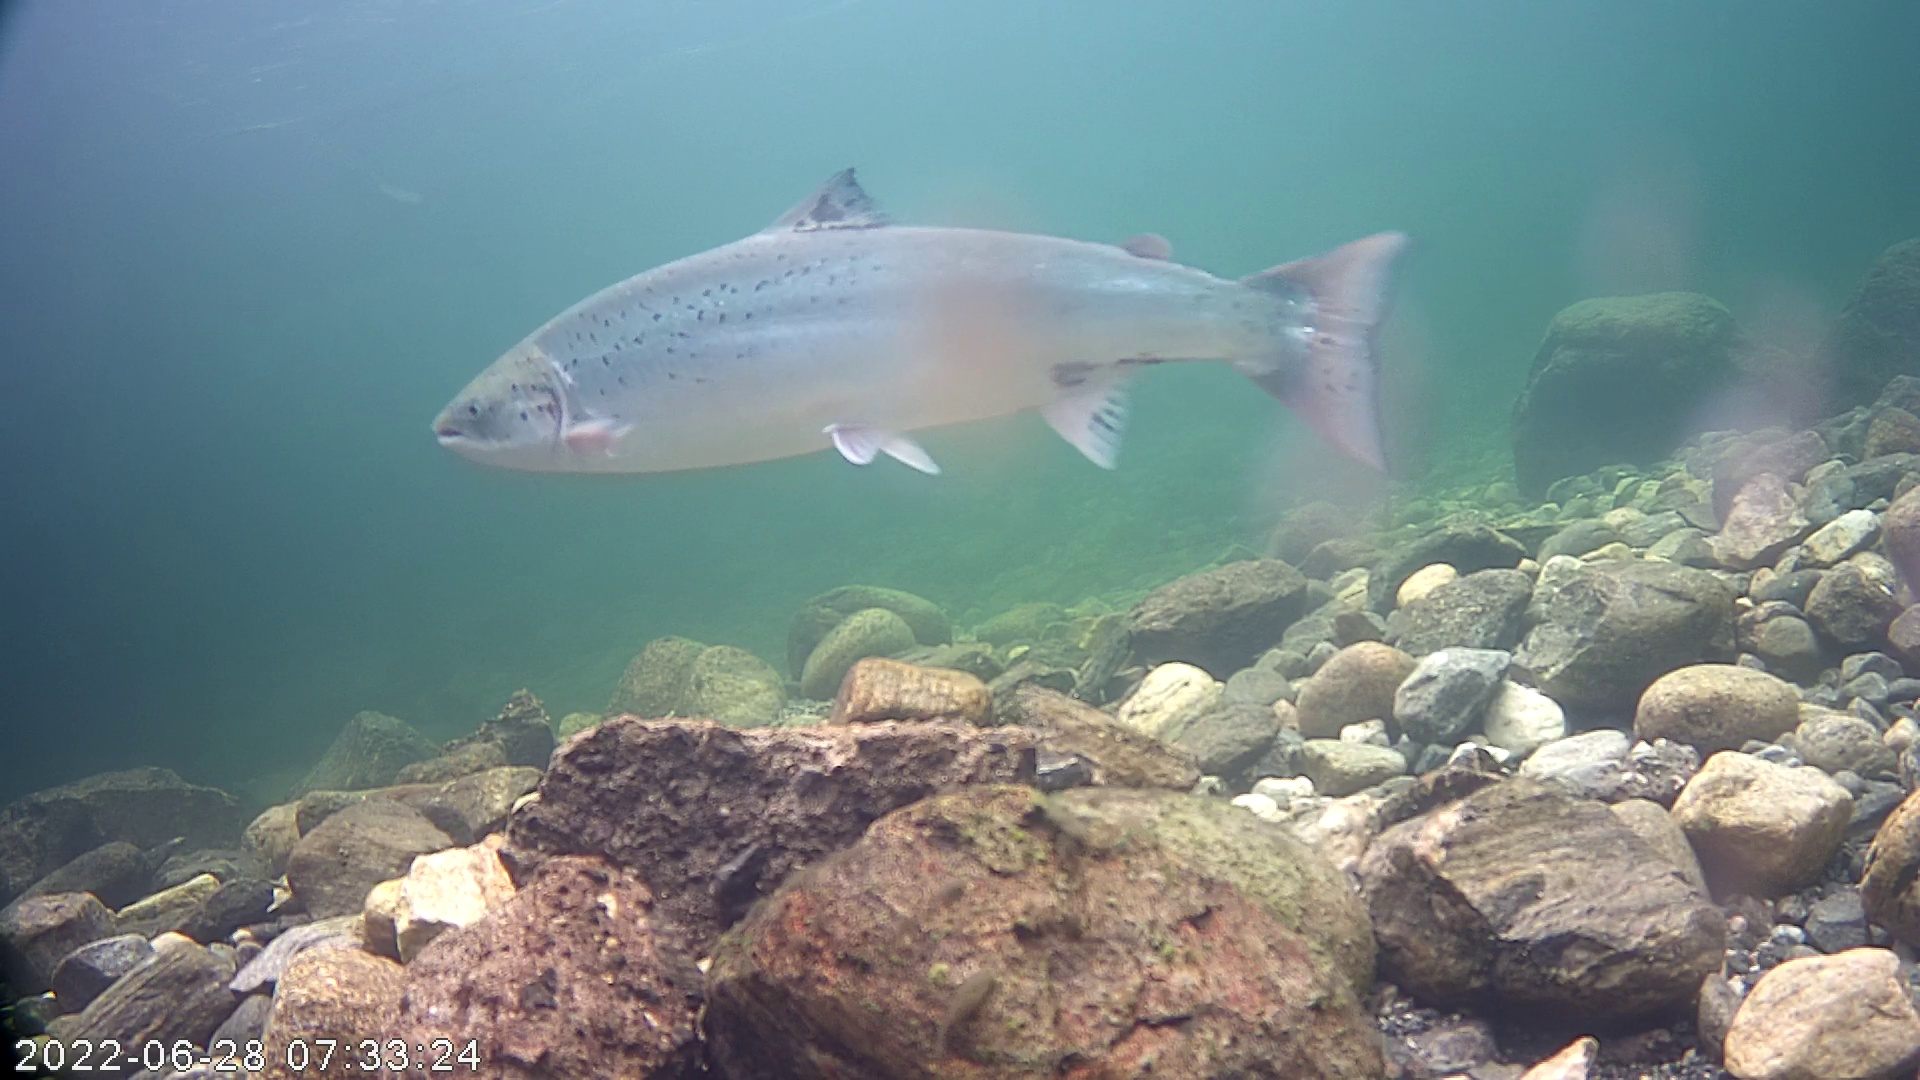salmon: (425, 108, 1449, 527)
